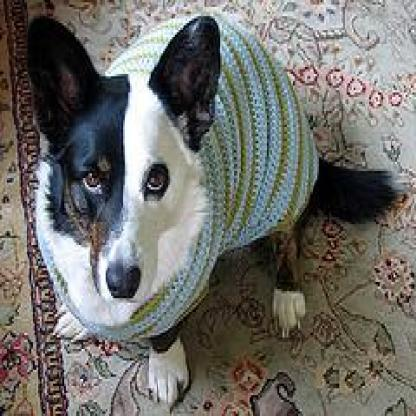Cardigan: (21, 7, 404, 404)
